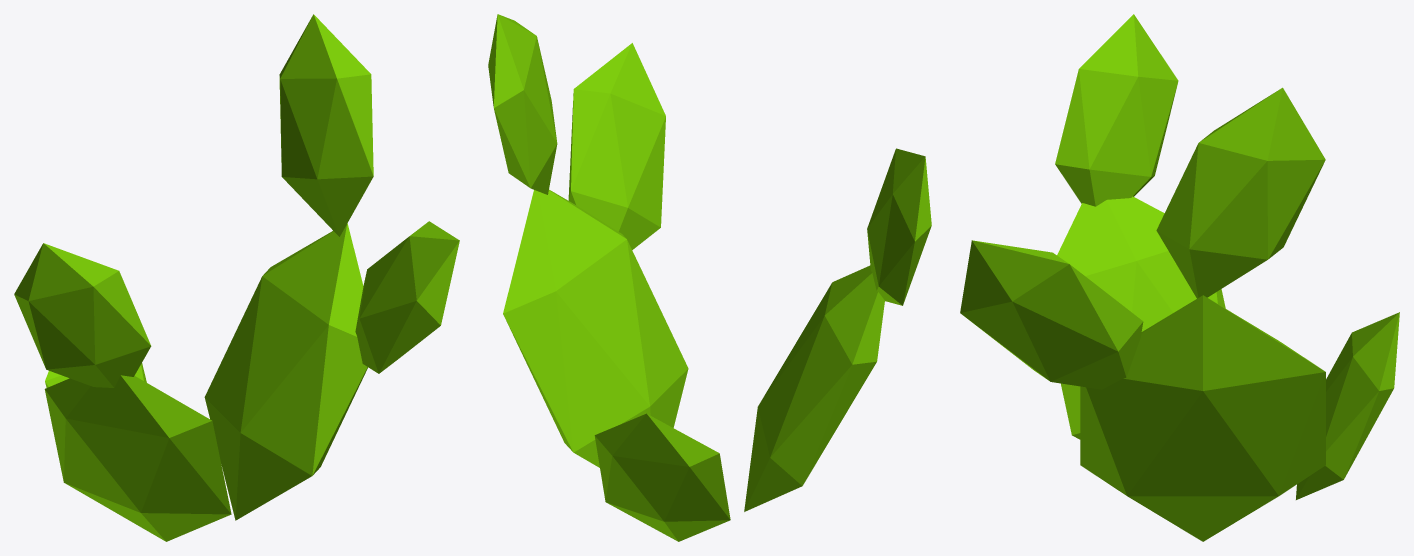
File: Bush_Cactus.fbx
3 views of the same model, side by side, from view 1: azimuth 30°, elevation 25°; view 2: azimuth 150°, elevation 25°; view 3: azimuth 270°, elevation 25° (orthographic). The views are drawn at different scales.
Parts seen in each view (by area): view 1: Bush Cactus; view 2: Bush Cactus; view 3: Bush Cactus.
Boxes of the visible parts, left/top/right/bottom form: Bush Cactus: left=14, top=14, right=459, bottom=541; Bush Cactus: left=488, top=14, right=931, bottom=541; Bush Cactus: left=960, top=14, right=1399, bottom=541.
Bounding box in the file's own units: 404 × 476 × 367.
